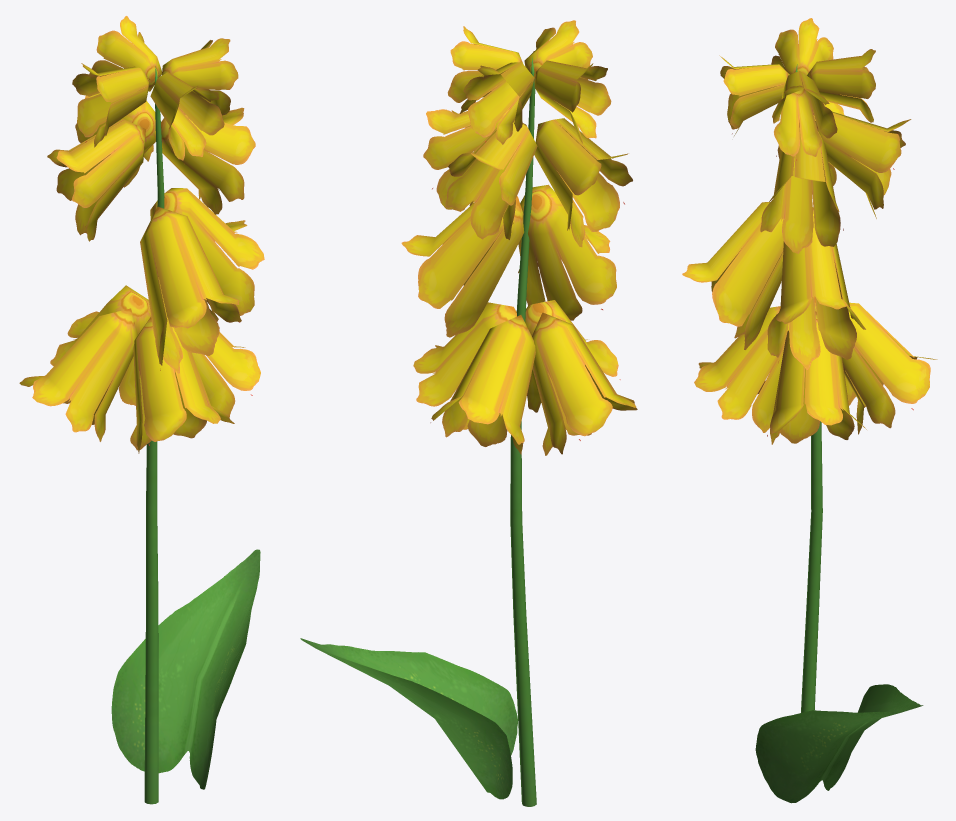
File: Flower_4_Single.gltf
The picture shows the model from 3 angles, left to right: view 1: azimuth 30°, elevation 25°; view 2: azimuth 150°, elevation 25°; view 3: azimuth 270°, elevation 25°; orthographic projection. The views are drawn at different scales.
Visible parts, largest first — view 1: Flower_4_Single; view 2: Flower_4_Single; view 3: Flower_4_Single.
Boxes of the visible parts, <box> form: Flower_4_Single: <box>19,16,264,804</box>; Flower_4_Single: <box>300,20,637,806</box>; Flower_4_Single: <box>682,18,937,803</box>.
Size of the model in its own units: 0.9602 by 2.42 by 0.7808.
2 materials, 2 textured.
